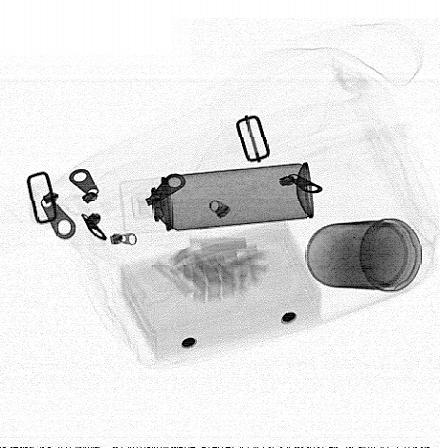Sprayer: (119, 161, 314, 237)
